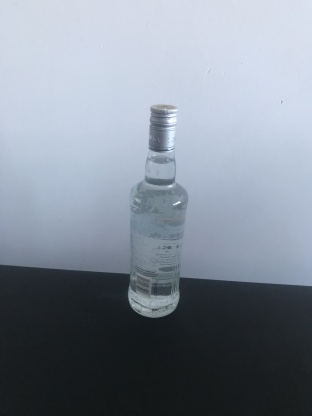nakretka: (147, 102, 179, 155)
